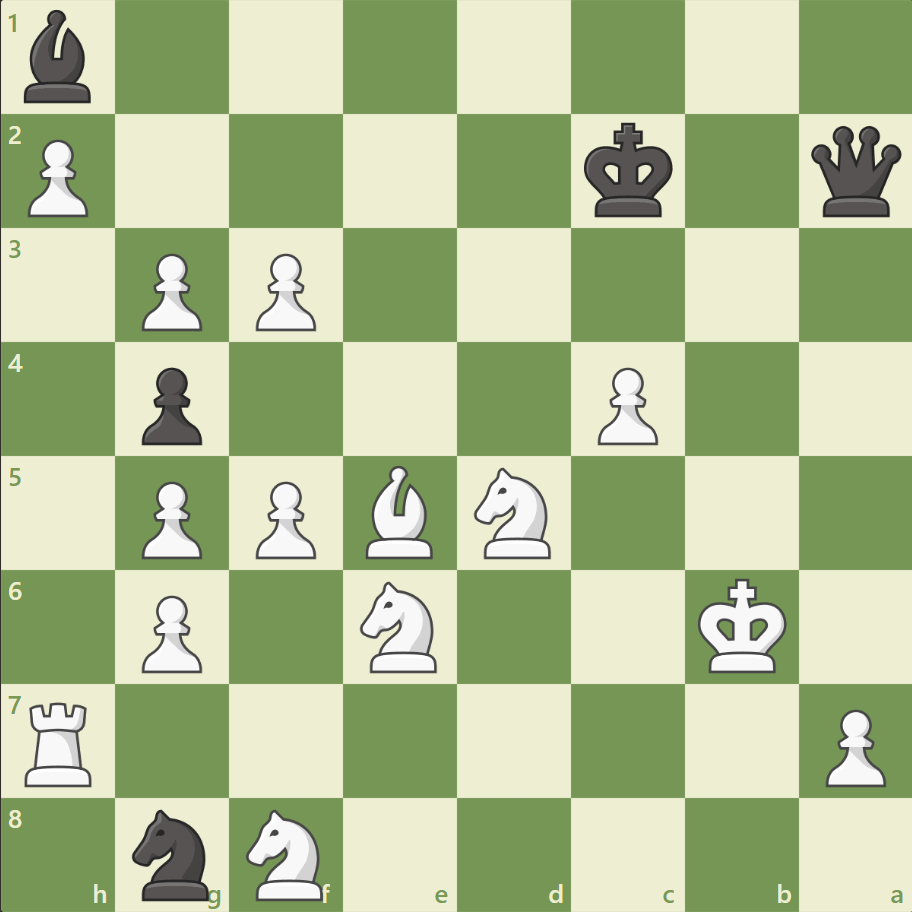B: (358, 460, 442, 563)
K: (692, 571, 792, 679)
N: (351, 575, 449, 677), (465, 461, 562, 564), (238, 802, 335, 904)
P: (133, 586, 208, 677), (247, 473, 322, 564), (133, 473, 208, 564), (247, 246, 322, 337), (133, 246, 208, 337), (20, 132, 95, 223), (815, 700, 889, 791), (588, 359, 662, 450)
R: (19, 693, 102, 790)
b: (17, 6, 101, 109)
k: (579, 117, 679, 225)
n: (124, 802, 222, 904)
p: (133, 359, 208, 450)
q: (805, 122, 904, 222)
